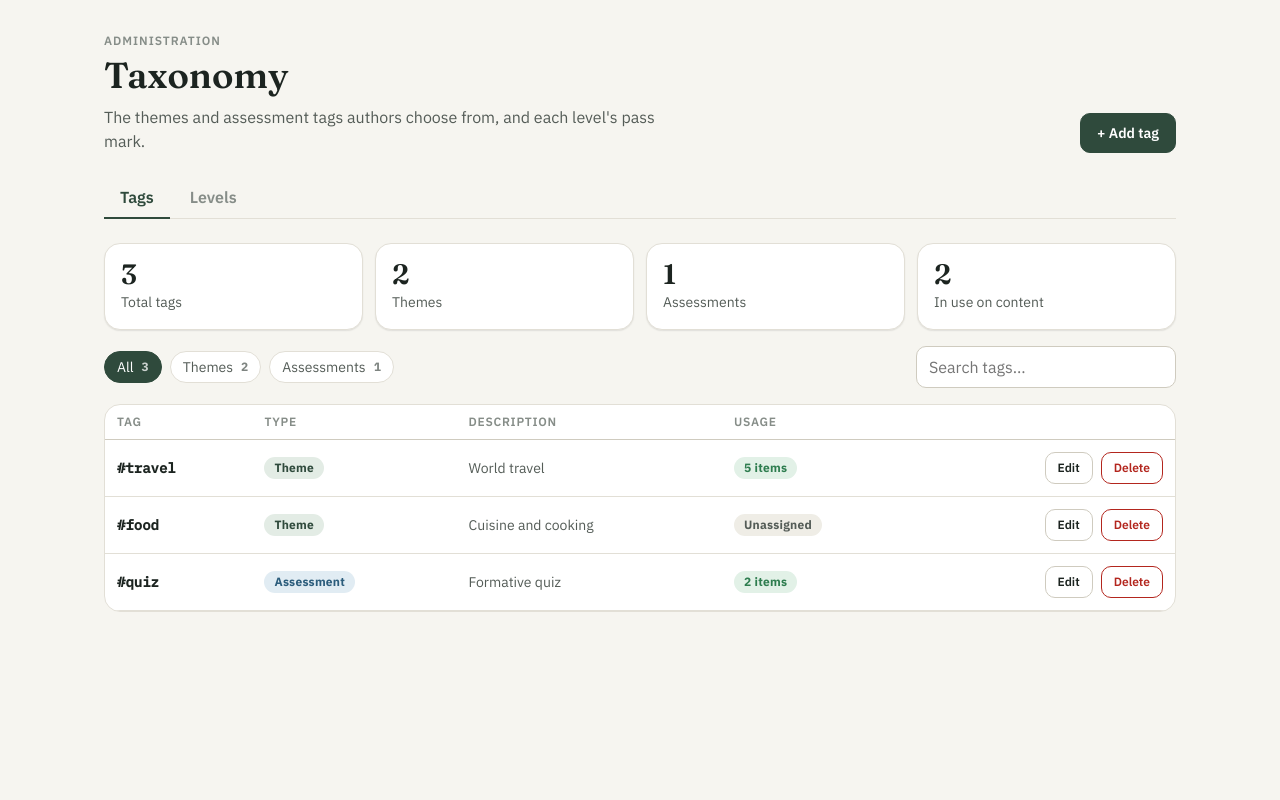
Test: TaxonomyAdminScreen › an unused tag is deleted after confirming
This screenshot has width=1280, height=800.
Click the button with test id "btn-delete-tag" in the row of "#food": [1132, 525] box [1101,509,1163,541]
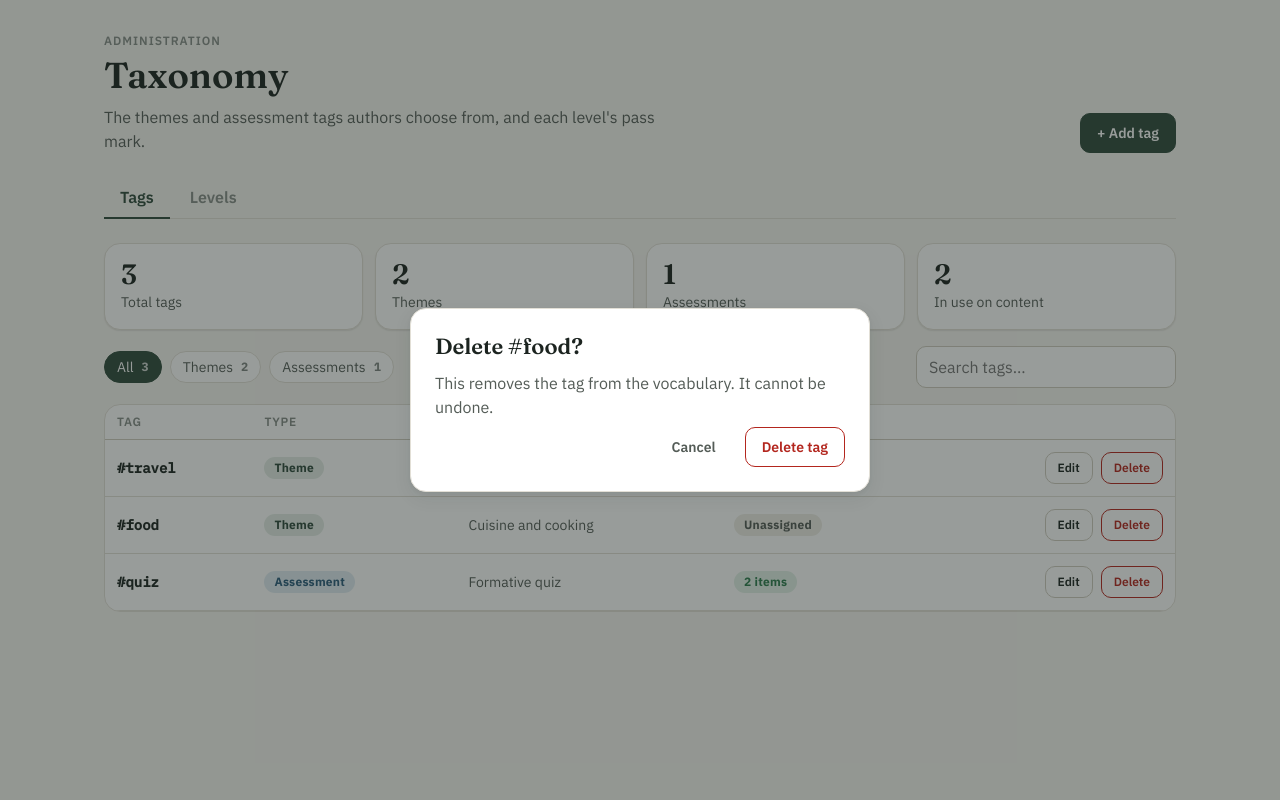
Click the button with test id "btn-confirm-delete": [795, 447] box [745,427,845,467]
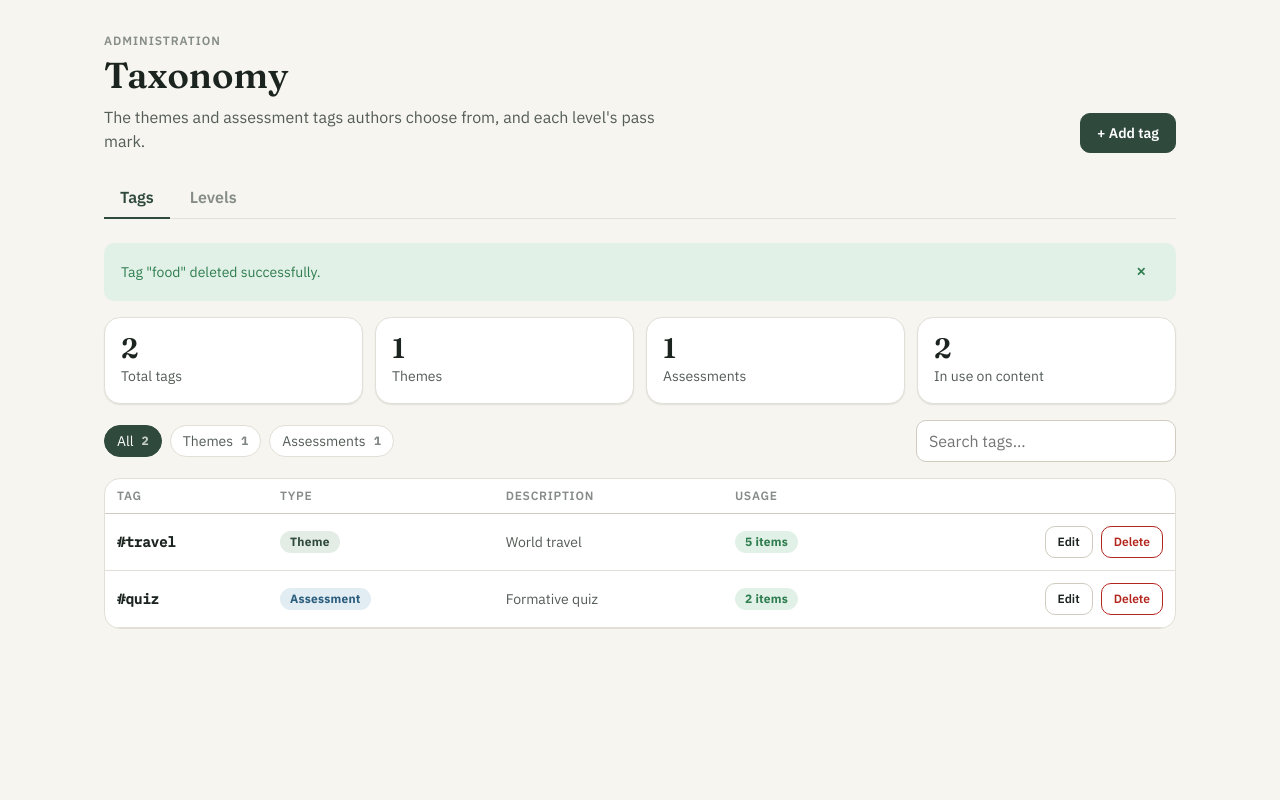
Check: the number of rows with test id "tag-row" is 2, box [105,514,1175,571]; [105,571,1175,628]
